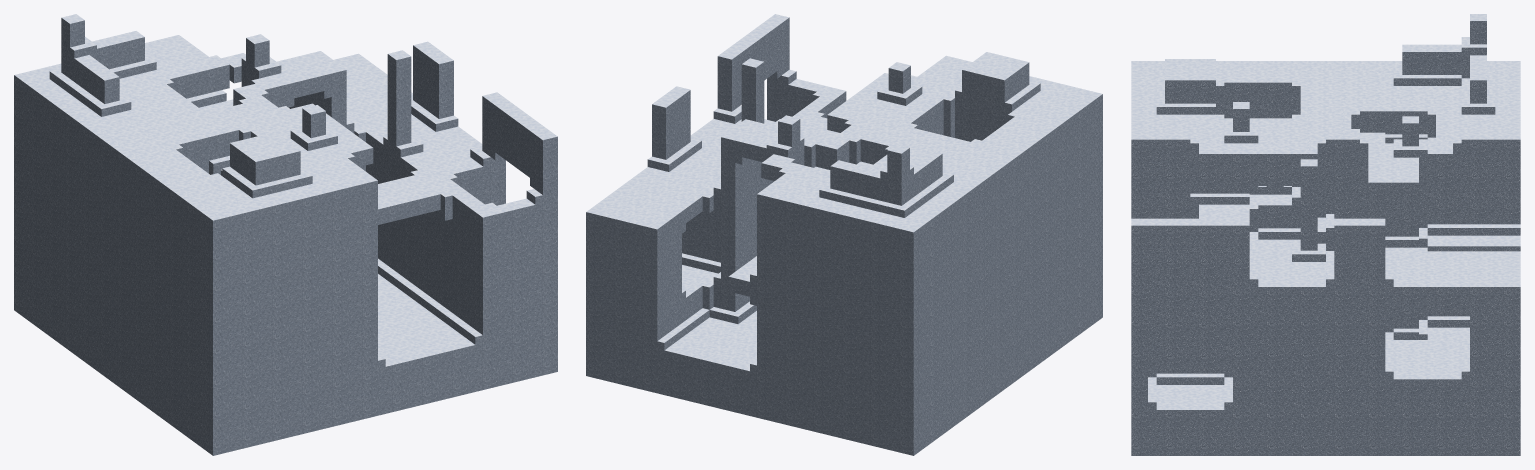
File: neige.glb
3 views of the same model, side by side, from view 1: azimuth 30°, elevation 25°; view 2: azimuth 150°, elevation 25°; view 3: azimuth 270°, elevation 25° (orthographic). The views are drawn at different scales.
Visible parts, largest first — view 1: edge_inner_b4h2_outdoor_345, edge_inner_b4h2_outdoor_338, slab_b2h2_outdoor_161, slab_b2h2_outdoor_310, slab_b2h2_outdoor_330, slab_b2h2_outdoor_377, slab_b2h2_outdoor_745, slab_b2h2_outdoor_916, slab_b2h2_outdoor_131, slab_b2h2_outdoor_141, slab_b2h2_outdoor_173, slab_b2h2_outdoor_209 (+182 smaller); view 2: edge_inner_b4h2_outdoor_337, edge_inner_b4h2_outdoor_254, edge_inner_b3h3_outdoor_407, edge_inner_b4h2_845, corner_inner_b4h3_outdoor_749, slab_b2h2_outdoor_513, slab_b2h2_outdoor_692, slab_b2h2_outdoor_842, slab_b2h2_outdoor_850, slab_b2h2_outdoor_857, slab_b2h2_outdoor_835, slab_b2h2_outdoor_837 (+157 smaller); view 3: edge_inner_b4h2_outdoor_256, edge_inner_b4h2_outdoor_419, edge_inner_b4h2_outdoor_552, edge_inner_b4h2_553, edge_inner_b4h2_571, edge_inner_b4h2_outdoor_839, ell_inner_b3h2_b_572, slab_b2h2_outdoor_1016, slab_b2h2_outdoor_1023, slab_b2h2_outdoor_576, slab_b2h2_outdoor_586, slab_b2h2_outdoor_967 (+164 smaller).
Part boxes in pixels (x1,y1,x2,y2): edge_inner_b4h2_outdoor_345: (263,161,305,200); edge_inner_b4h2_outdoor_338: (107,46,149,86); slab_b2h2_outdoor_161: (220,282,250,320); slab_b2h2_outdoor_310: (280,299,310,337); slab_b2h2_outdoor_330: (280,236,310,274); slab_b2h2_outdoor_377: (310,323,340,361); slab_b2h2_outdoor_745: (460,349,490,387); slab_b2h2_outdoor_916: (520,240,550,278); slab_b2h2_outdoor_131: (220,407,250,445); slab_b2h2_outdoor_141: (220,345,250,383); slab_b2h2_outdoor_173: (220,219,250,257); slab_b2h2_outdoor_209: (250,369,280,407); edge_inner_b4h2_outdoor_337: (825,175,865,213); edge_inner_b4h2_outdoor_254: (854,182,894,220); edge_inner_b3h3_outdoor_407: (935,105,969,138); edge_inner_b4h2_845: (682,240,715,277); corner_inner_b4h3_outdoor_749: (694,292,727,326); slab_b2h2_outdoor_513: (735,375,764,411); slab_b2h2_outdoor_692: (678,361,707,397); slab_b2h2_outdoor_842: (621,288,650,324); slab_b2h2_outdoor_850: (621,258,650,294); slab_b2h2_outdoor_857: (621,228,650,264); slab_b2h2_outdoor_835: (621,347,650,383); slab_b2h2_outdoor_837: (621,318,650,354); edge_inner_b4h2_outdoor_256: (1410,59,1444,93); edge_inner_b4h2_outdoor_419: (1173,88,1207,121); edge_inner_b4h2_outdoor_552: (1478,209,1512,242); edge_inner_b4h2_553: (1444,209,1478,242); edge_inner_b4h2_571: (1207,178,1241,211); edge_inner_b4h2_outdoor_839: (1173,358,1207,391); ell_inner_b3h2_b_572: (1173,178,1207,212); slab_b2h2_outdoor_1016: (1478,294,1512,325); slab_b2h2_outdoor_1023: (1241,294,1275,325); slab_b2h2_outdoor_576: (1478,147,1512,178); slab_b2h2_outdoor_586: (1139,147,1173,178); slab_b2h2_outdoor_967: (1478,417,1512,448).
Size of the model in its own units: 11.5 by 9.5 by 11.5.
2 materials, 2 textured.
